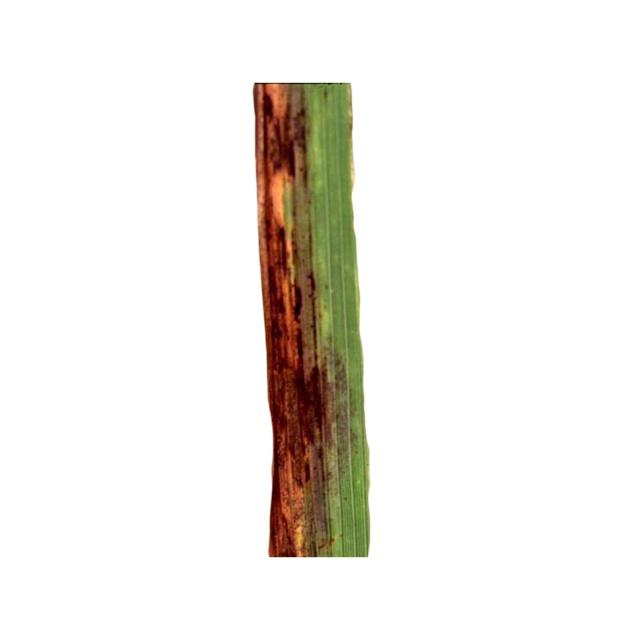Leaf scald: (222, 49, 443, 584)
